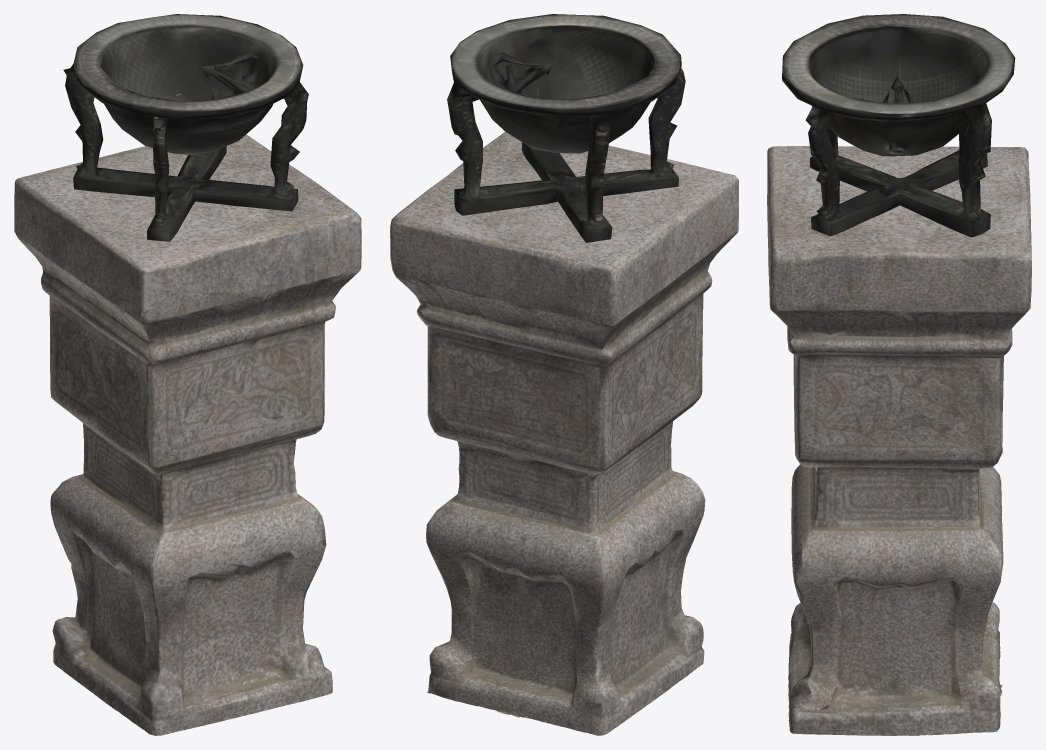
File: SM_StoneStatue02C.fbx
The picture shows the model from 3 angles, left to right: view 1: azimuth 30°, elevation 25°; view 2: azimuth 150°, elevation 25°; view 3: azimuth 270°, elevation 25°; orthographic projection.
Parts seen in each view (by area): view 1: SM_StoneStatue02C; view 2: SM_StoneStatue02C; view 3: SM_StoneStatue02C.
Part boxes in pixels (x1,y1,x2,y2): SM_StoneStatue02C: (14,14,361,735); SM_StoneStatue02C: (390,14,738,735); SM_StoneStatue02C: (767,14,1031,735).
Bounding box in the file's own units: 48.16 × 48.15 × 125.
